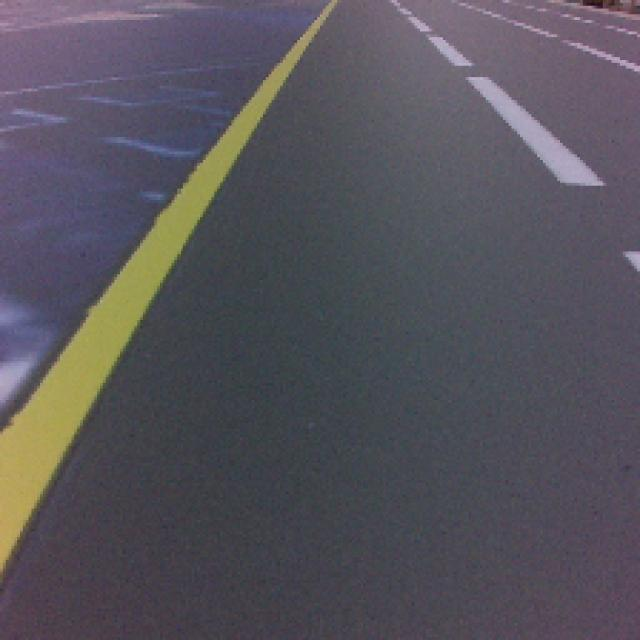Road: (0, 330, 640, 640)
